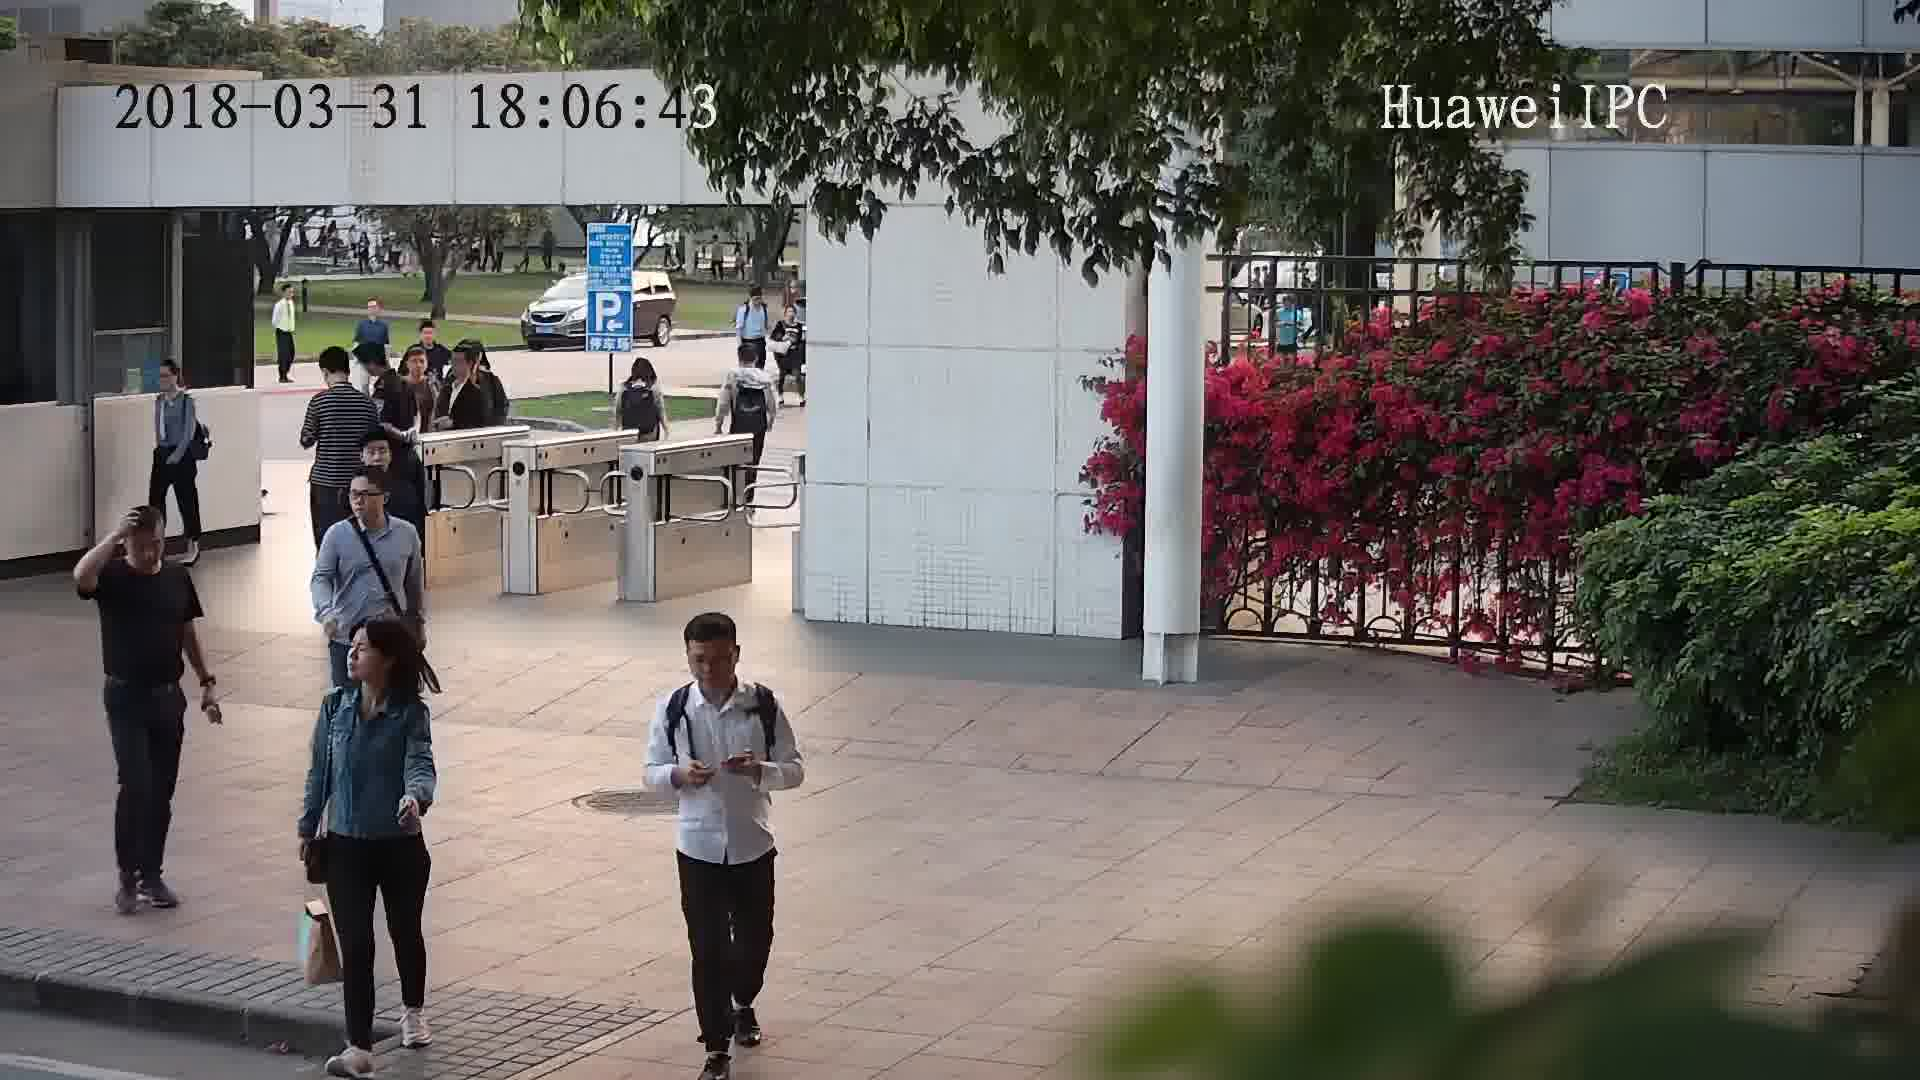face: (337, 624, 394, 681), (340, 469, 389, 523), (686, 638, 736, 689), (120, 521, 168, 574)
person: (656, 606, 778, 718), (320, 614, 437, 729), (89, 501, 196, 597), (323, 466, 417, 552), (351, 430, 418, 491), (314, 343, 371, 411), (356, 340, 406, 394), (447, 340, 497, 394), (152, 356, 197, 413), (731, 335, 779, 381), (393, 345, 436, 395), (620, 353, 665, 401), (405, 314, 448, 361), (358, 295, 389, 332), (772, 305, 811, 332), (743, 283, 770, 314), (273, 278, 299, 310)
